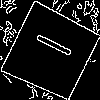I: (25, 26, 74, 60)
